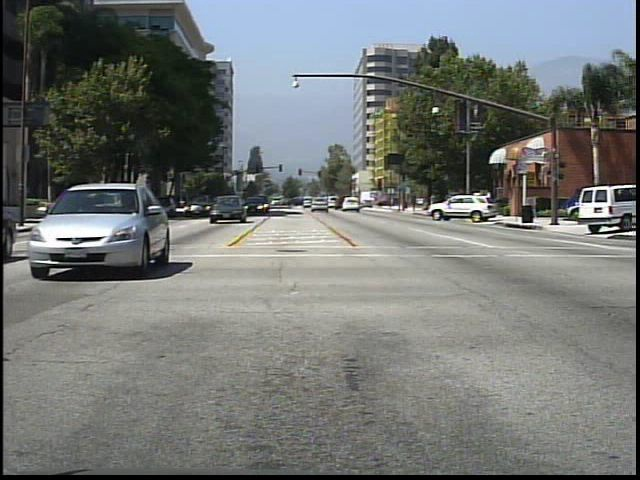person: (448, 187, 463, 220), (426, 187, 439, 212)
